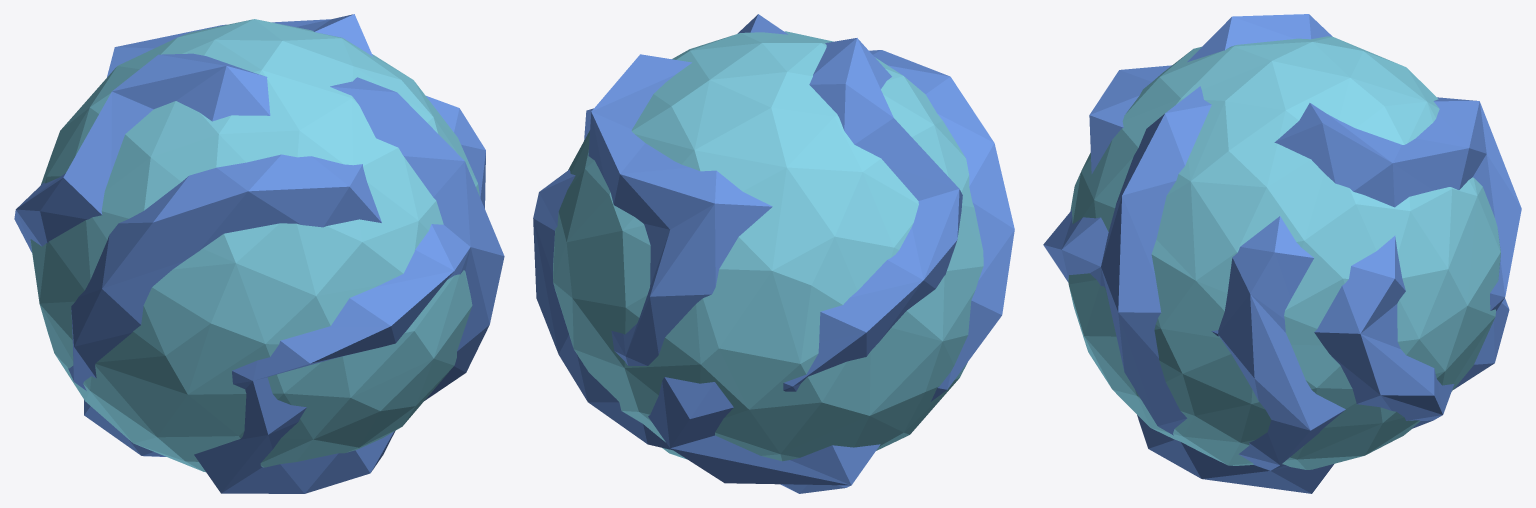
File: water_01.glb
The picture shows the model from 3 angles, left to right: view 1: azimuth 30°, elevation 25°; view 2: azimuth 150°, elevation 25°; view 3: azimuth 270°, elevation 25°; orthographic projection. The views are drawn at different scales.
Visible parts, largest first — view 1: icy_planet4; view 2: icy_planet4; view 3: icy_planet4.
Boxes of the visible parts, left/top/right/bottom form: icy_planet4: left=14, top=14, right=504, bottom=493; icy_planet4: left=533, top=14, right=1014, bottom=493; icy_planet4: left=1043, top=14, right=1521, bottom=493.
Size of the model in its own units: 2.13 by 2.09 by 2.18.
